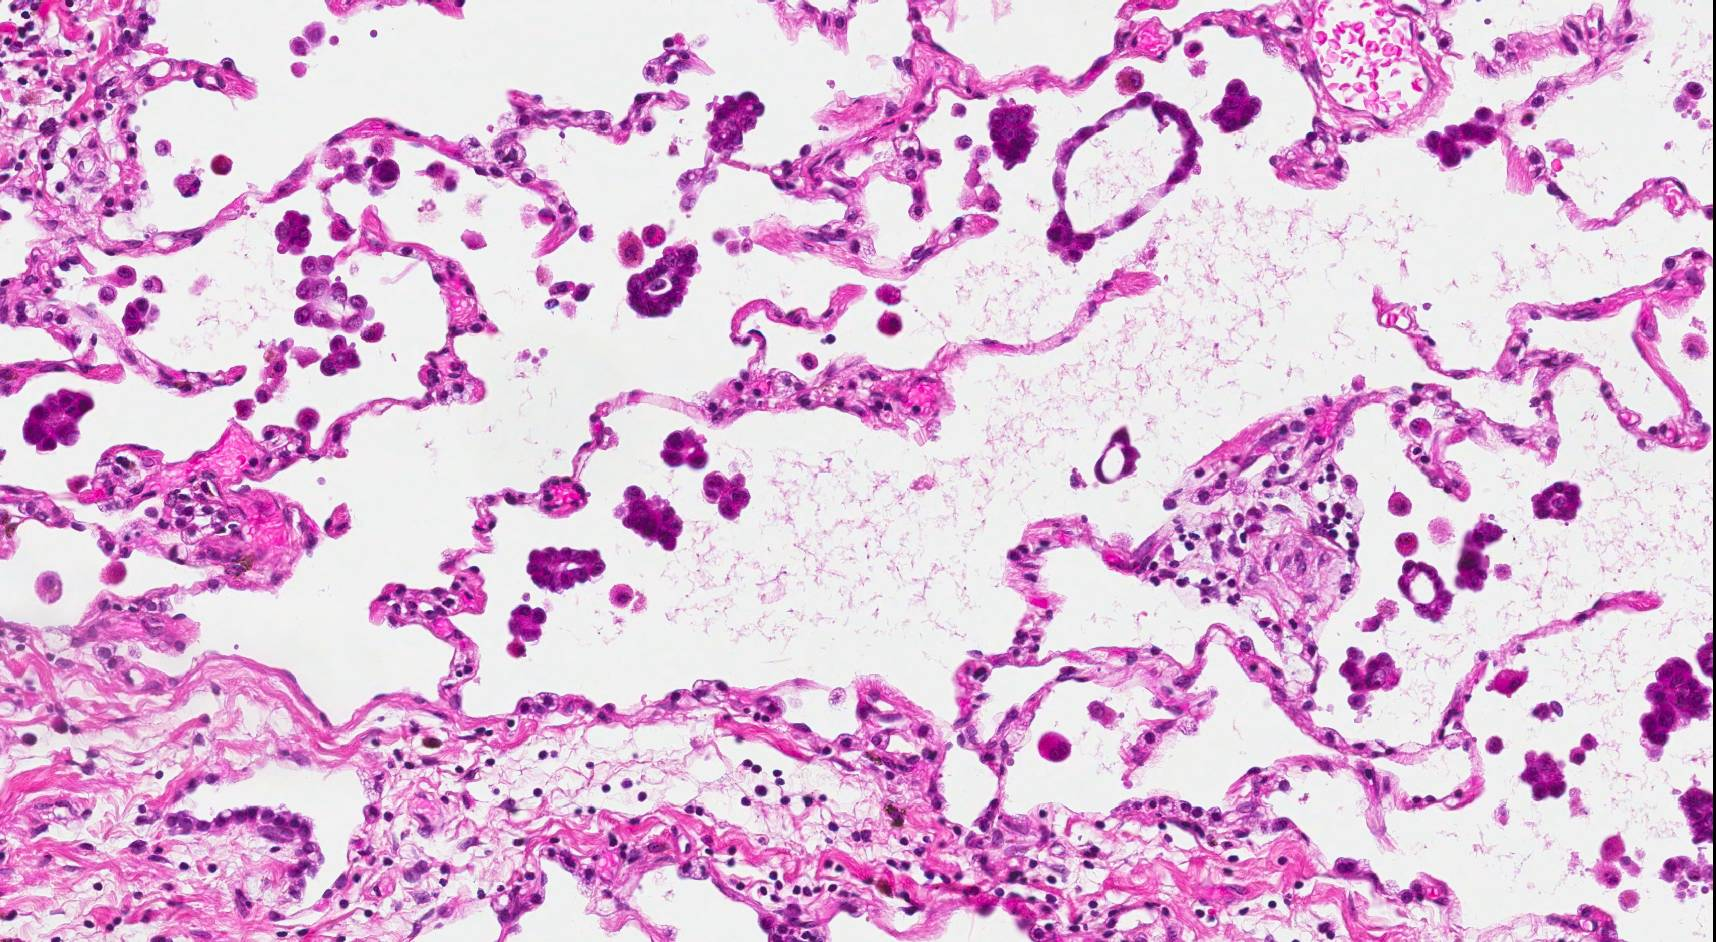stas: (1043, 92, 1205, 259), (1638, 650, 1712, 751), (622, 241, 706, 322), (291, 255, 377, 332), (608, 481, 686, 554), (1417, 105, 1498, 176), (1391, 552, 1464, 626), (19, 387, 96, 455), (1453, 518, 1516, 600), (525, 538, 609, 595), (701, 89, 768, 155), (1341, 645, 1402, 714), (1523, 471, 1596, 527), (1206, 72, 1266, 134), (985, 102, 1039, 172), (1091, 425, 1146, 492), (1520, 745, 1573, 804), (702, 471, 755, 524), (658, 425, 714, 470), (318, 332, 366, 382), (269, 210, 318, 257), (118, 291, 164, 340), (505, 600, 549, 645)
